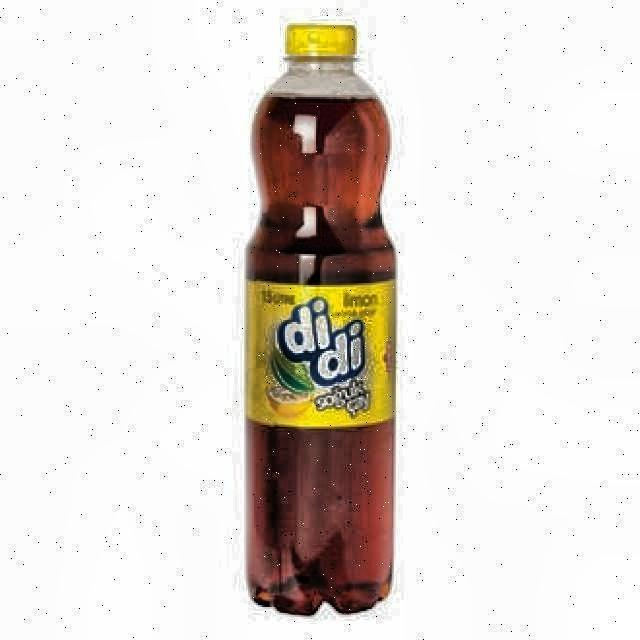plastic: (243, 22, 398, 619)
